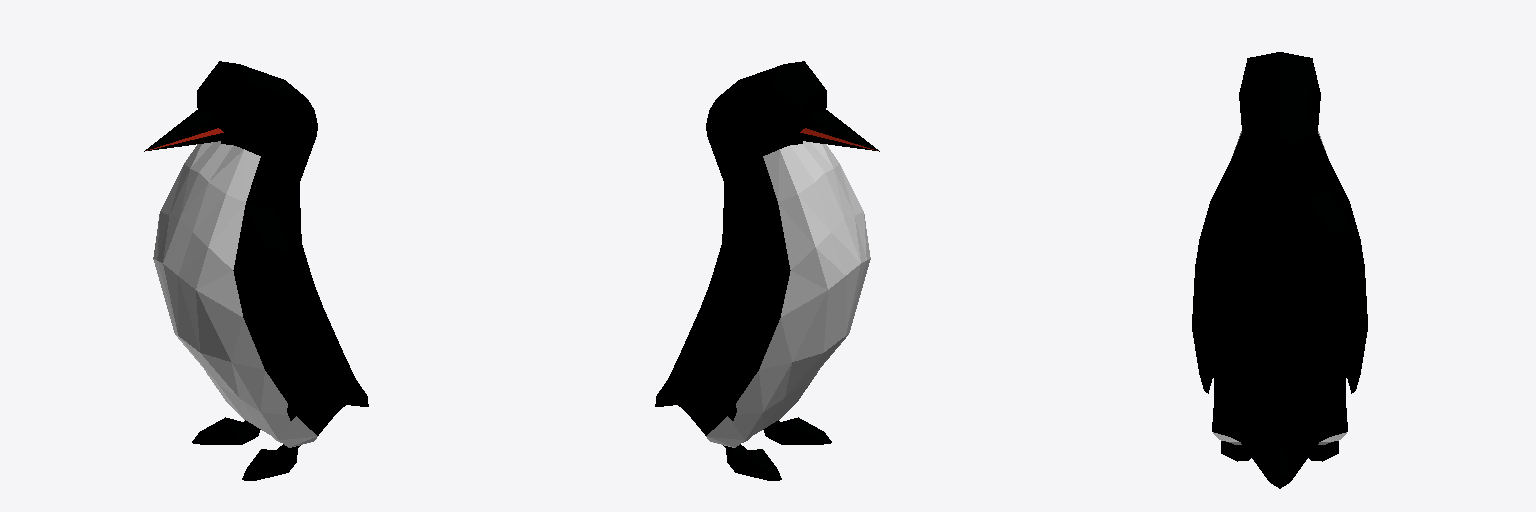
Rendered from Lowpolypenguin.obj.
3 renders of one model, left to right at view 1: azimuth 30°, elevation 25°; view 2: azimuth 150°, elevation 25°; view 3: azimuth 270°, elevation 25°, orthographic.
Parts seen in each view (by area): view 1: Cube; view 2: Cube; view 3: Cube.
Boxes of the visible parts, x1=… form: Cube: x1=144, y1=61, x2=368, y2=480; Cube: x1=655, y1=61, x2=879, y2=480; Cube: x1=1192, y1=52, x2=1367, y2=488.
Size of the model in its own units: 3.09 by 5.14 by 2.1.